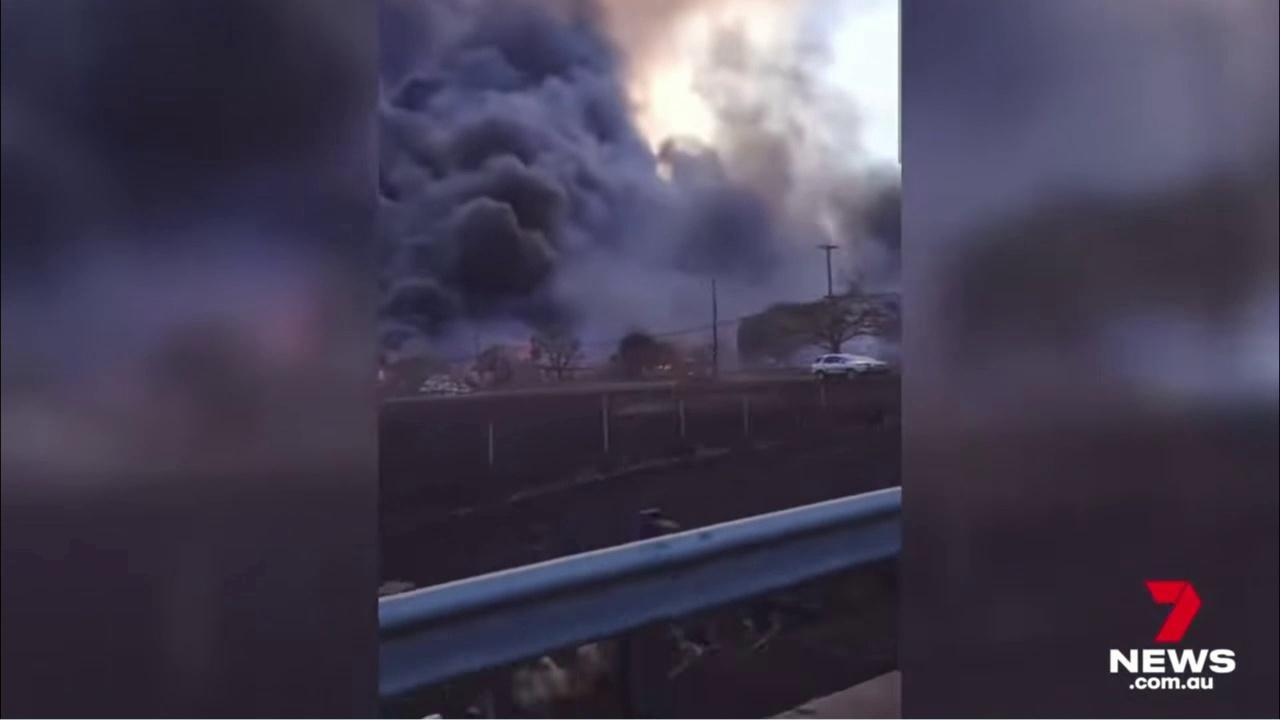smoke: (380, 0, 897, 370)
